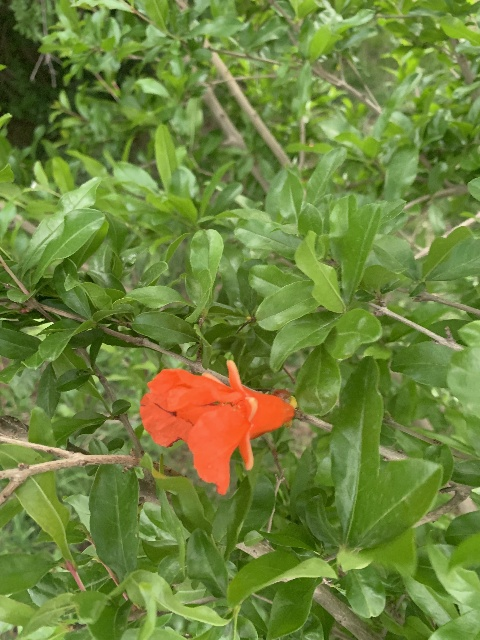flower: (139, 359, 293, 494)
